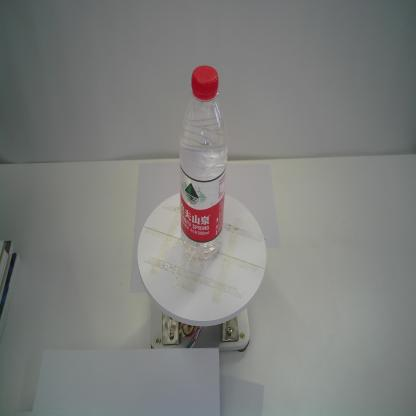Drink: (177, 64, 228, 262)
